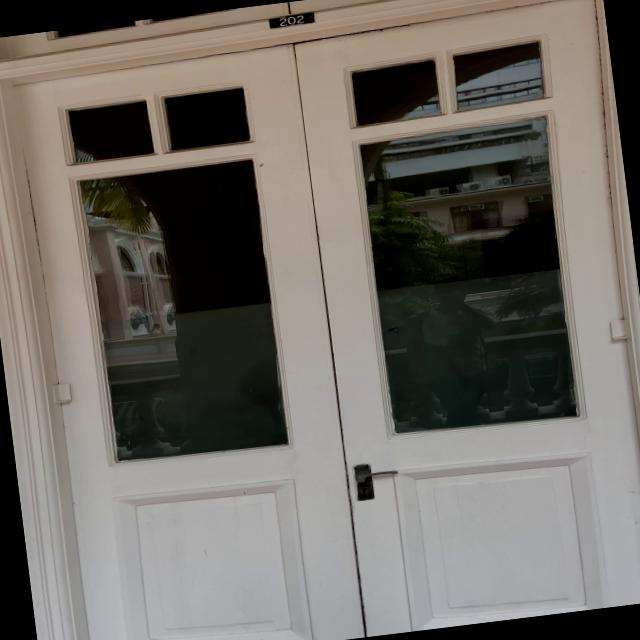room202: (260, 8, 320, 30)
